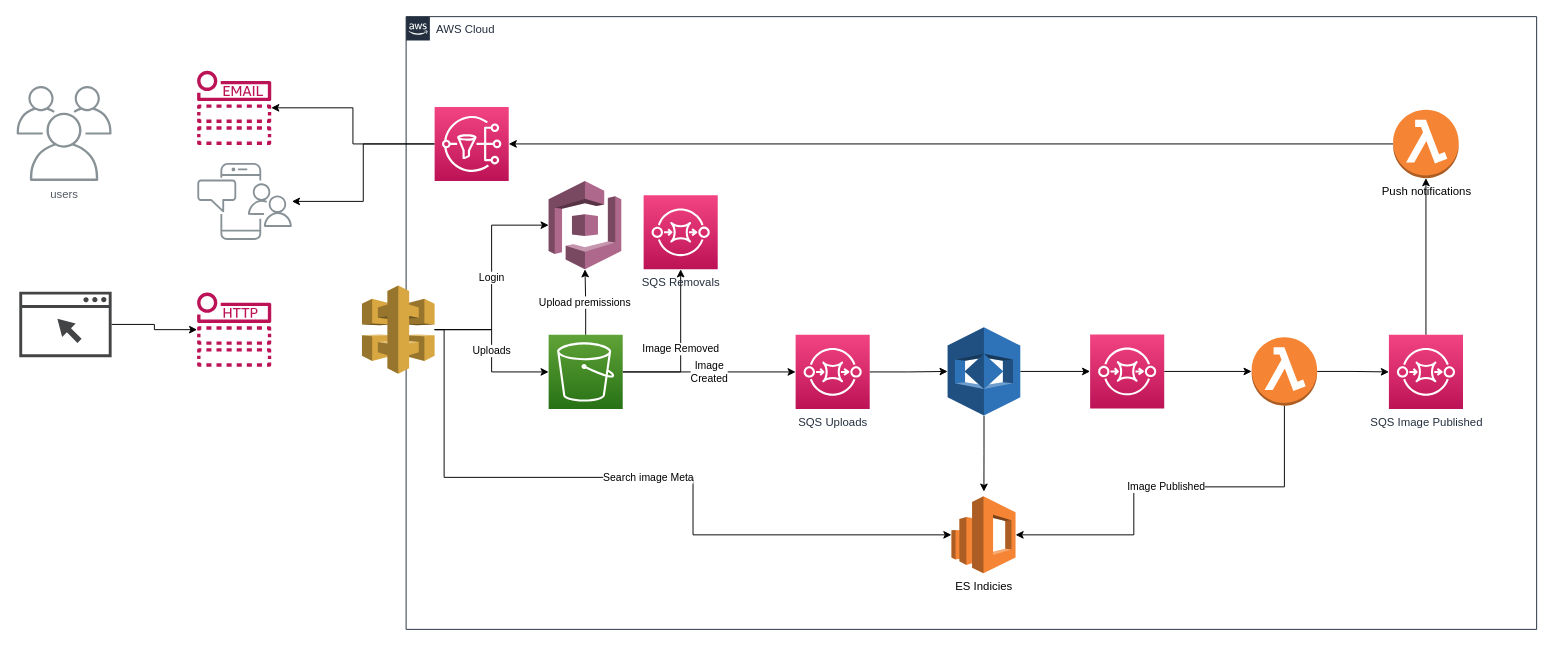
Some shapes in this 1553 by 646 pixel diagram are drawn without their labels. Here are the shapes that lost their labels. From the top down, the centre of each, then its label:
At pixel 244 200: "notification".
At pixel 585 371: "S3".
At pixel 1126 370: "SQS Image Processing".
At pixel 1284 371: "Meta analisys Filtering | Ranking".
